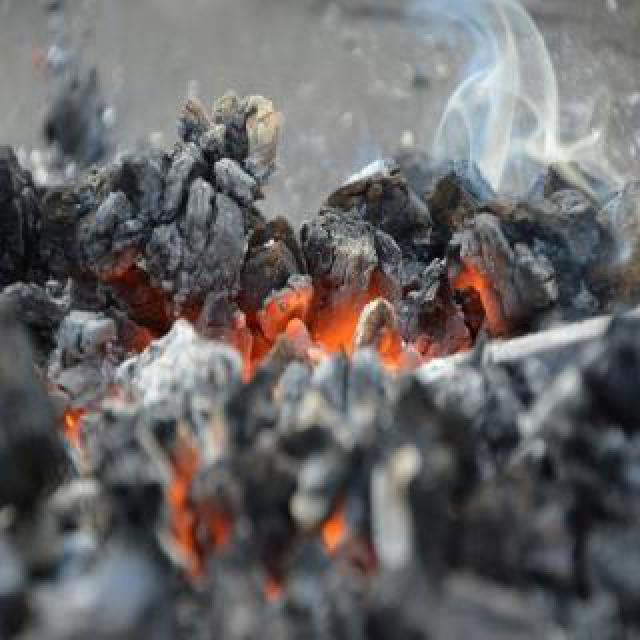Smoke: (420, 0, 636, 236)
